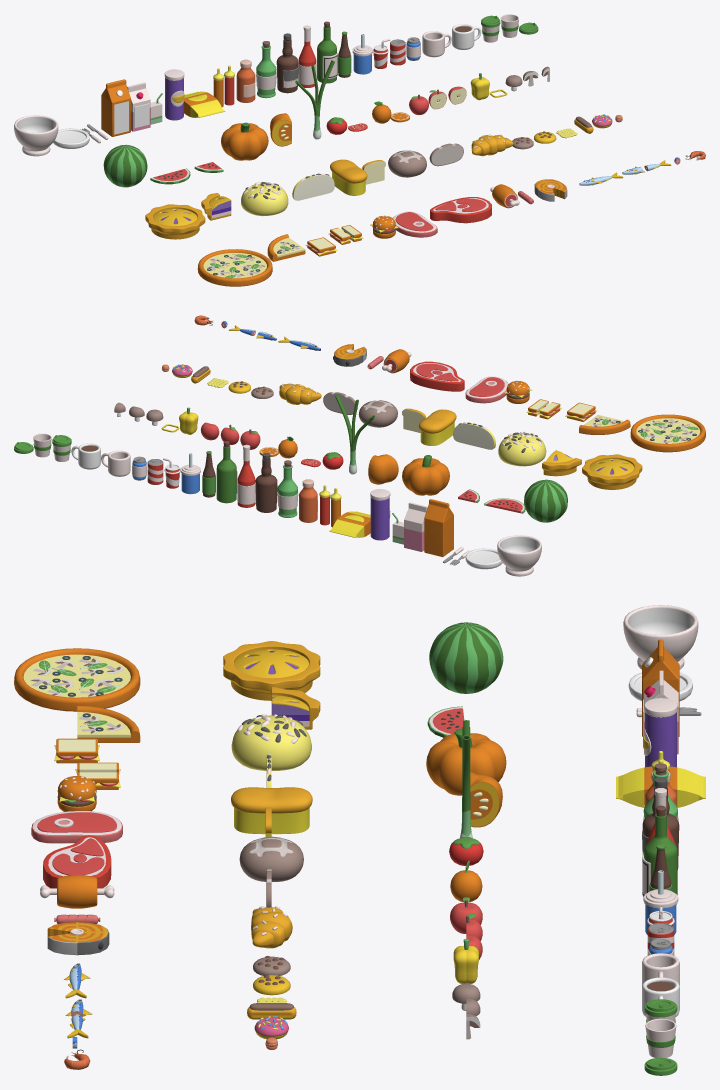
The model's file is All_Food.fbx.
The picture shows the model from 3 angles, top to bottom: view 1: azimuth 30°, elevation 25°; view 2: azimuth 150°, elevation 25°; view 3: azimuth 270°, elevation 25°; orthographic projection. The views are drawn at different scales.
Parts seen in each view (by area): view 1: Pizza, Pie, Carton_Box_1, Watermelon, Bowl, Pumpkin, Bread_1, Meat_Steak_2, Bread_2, Bottle_3, Chips_2, Carton_Box_2 (+24 smaller); view 2: Pizza, Pie, Carton_Box_1, Watermelon, Pumpkin, Bowl, Bread_1, Meat_Steak_2, Bread_2, Bottle_5, Bottle_3, Chips_2 (+27 smaller); view 3: Pizza, Pie, Watermelon, Bread_1, Bread_2, Bowl, Pumpkin, Meat_Steak_2, Meat_Steak_1, Bread_3, Chips_1, Chips_2 (+22 smaller).
Boxes of the visible parts, left/top/right/bottom form: Pizza: left=197, top=249, right=272, bottom=286; Pie: left=145, top=204, right=205, bottom=239; Carton_Box_1: left=101, top=79, right=130, bottom=136; Watermelon: left=103, top=144, right=147, bottom=187; Bowl: left=14, top=115, right=58, bottom=156; Pumpkin: left=221, top=122, right=268, bottom=160; Bread_1: left=241, top=182, right=288, bottom=216; Meat_Steak_2: left=430, top=197, right=491, bottom=223; Bread_2: left=330, top=159, right=367, bottom=195; Bottle_3: left=276, top=33, right=298, bottom=93; Chips_2: left=164, top=69, right=184, bottom=120; Carton_Box_2: left=127, top=82, right=150, bottom=131; Pizza: left=630, top=414, right=705, bottom=452; Pie: left=582, top=454, right=642, bottom=489; Carton_Box_1: left=424, top=499, right=453, bottom=557; Watermelon: left=524, top=479, right=567, bottom=522; Pumpkin: left=402, top=455, right=449, bottom=495; Bowl: left=497, top=535, right=541, bottom=576; Bread_1: left=498, top=431, right=546, bottom=466; Meat_Steak_2: left=410, top=361, right=464, bottom=391; Bread_2: left=418, top=409, right=456, bottom=445; Bottle_5: left=216, top=441, right=237, bottom=503; Bottle_3: left=255, top=453, right=277, bottom=512; Chips_2: left=370, top=489, right=390, bottom=540; Pizza: left=14, top=648, right=140, bottom=711; Pie: left=223, top=641, right=320, bottom=700; Watermelon: left=429, top=622, right=503, bottom=693; Bread_1: left=231, top=714, right=311, bottom=770; Bread_2: left=231, top=787, right=312, bottom=834; Bowl: left=623, top=605, right=698, bottom=669; Pumpkin: left=426, top=728, right=506, bottom=795; Meat_Steak_2: left=43, top=835, right=111, bottom=888; Meat_Steak_1: left=31, top=811, right=122, bottom=843; Bread_3: left=239, top=836, right=303, bottom=881; Chips_1: left=616, top=766, right=705, bottom=807; Chips_2: left=643, top=698, right=677, bottom=767.
Bounding box in the file's own units: 416 × 57.9 × 285.
